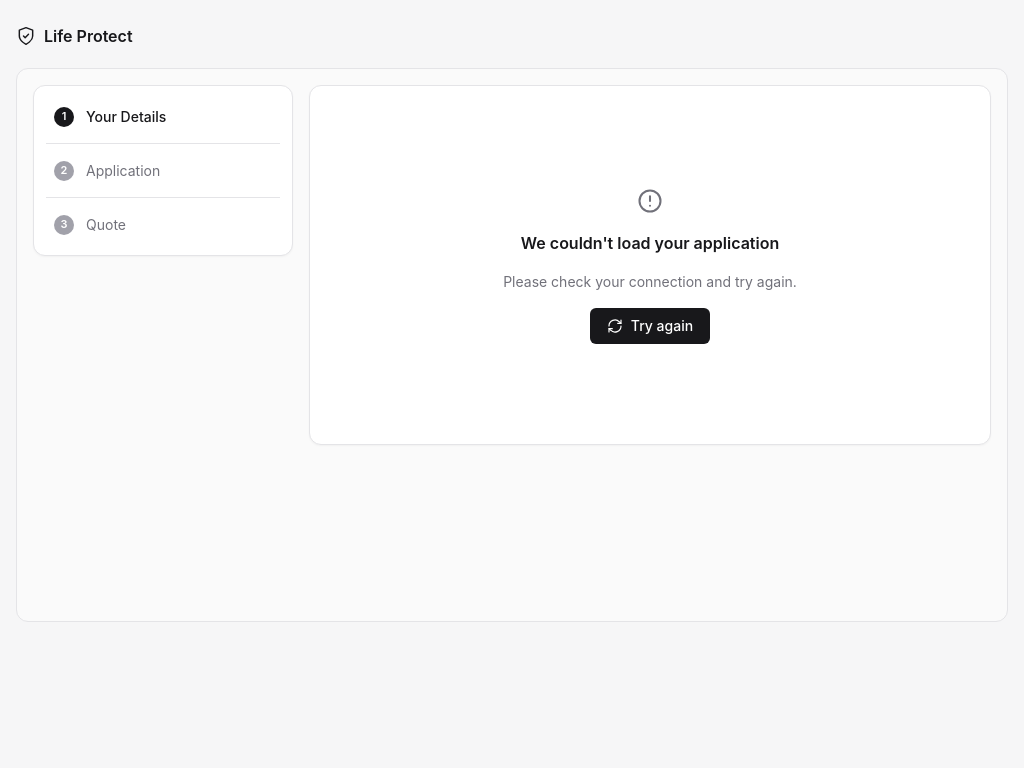
it: insurance application journey › recovers when the application fails to load
Expected: the text "We couldn't load your application" is shown, top-left (521, 230), bottom-right (779, 254)
Click the button "Try again": (650, 326) top-left (590, 308), bottom-right (710, 344)
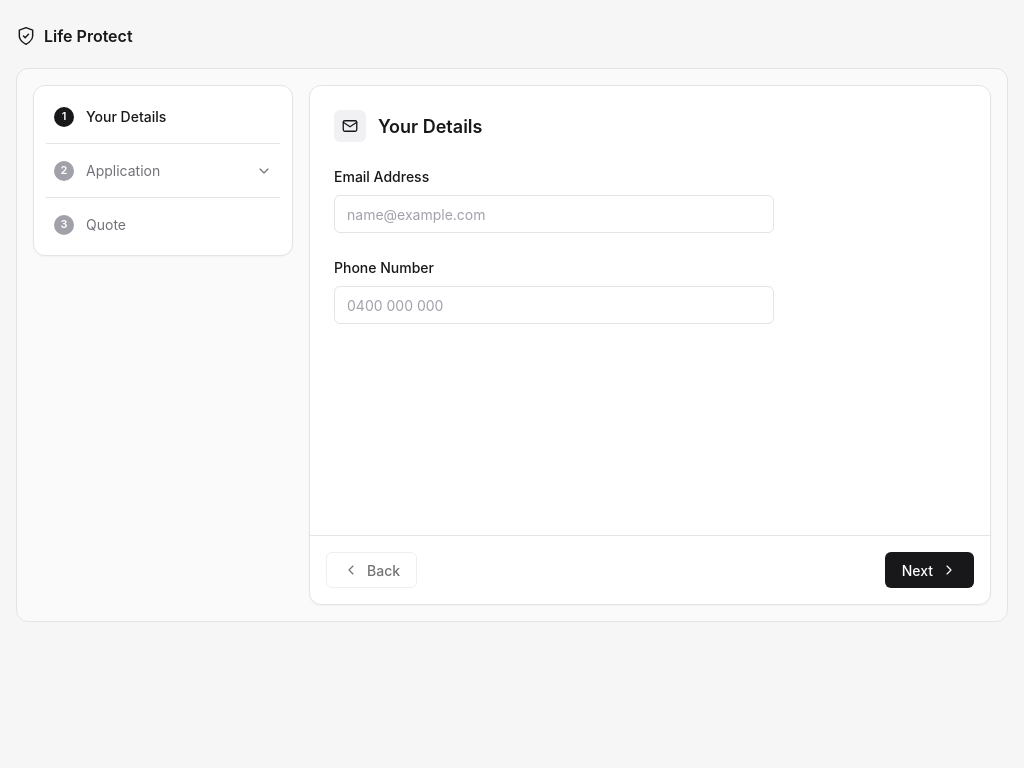
Now the heading "Your Details" is shown, box top-left (378, 112), bottom-right (482, 140)
